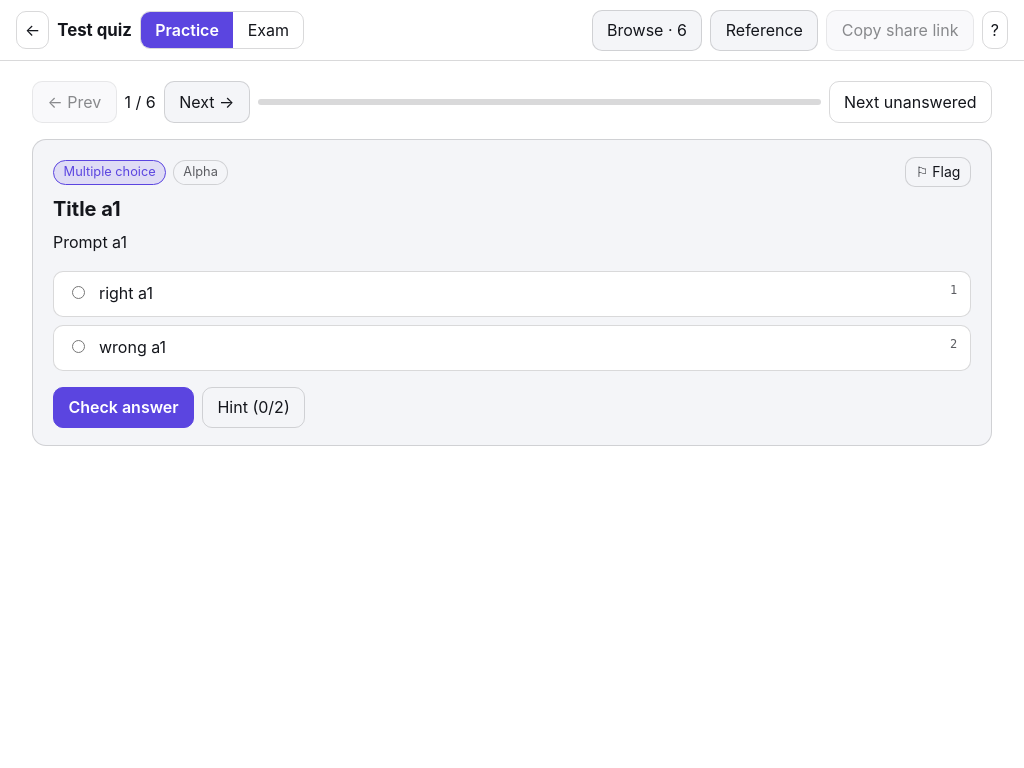
Test case: chrome › hides the Reference button when the quiz has none and shows the drawer when it has one
Click the button "Reference": click(764, 30) [710,10,818,51]
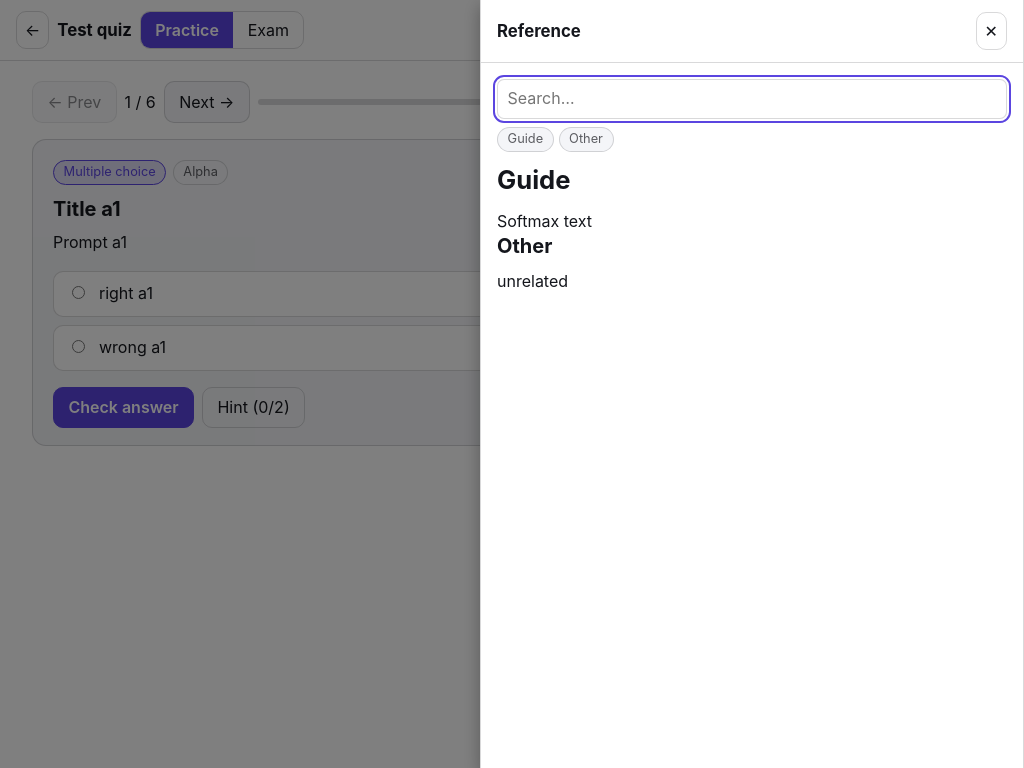
Expected: the text "Softmax text" is shown, [497,211,592,231]
In the search field named "Search the reference": (752, 99) [497,79,1007,119], type "unrelated"
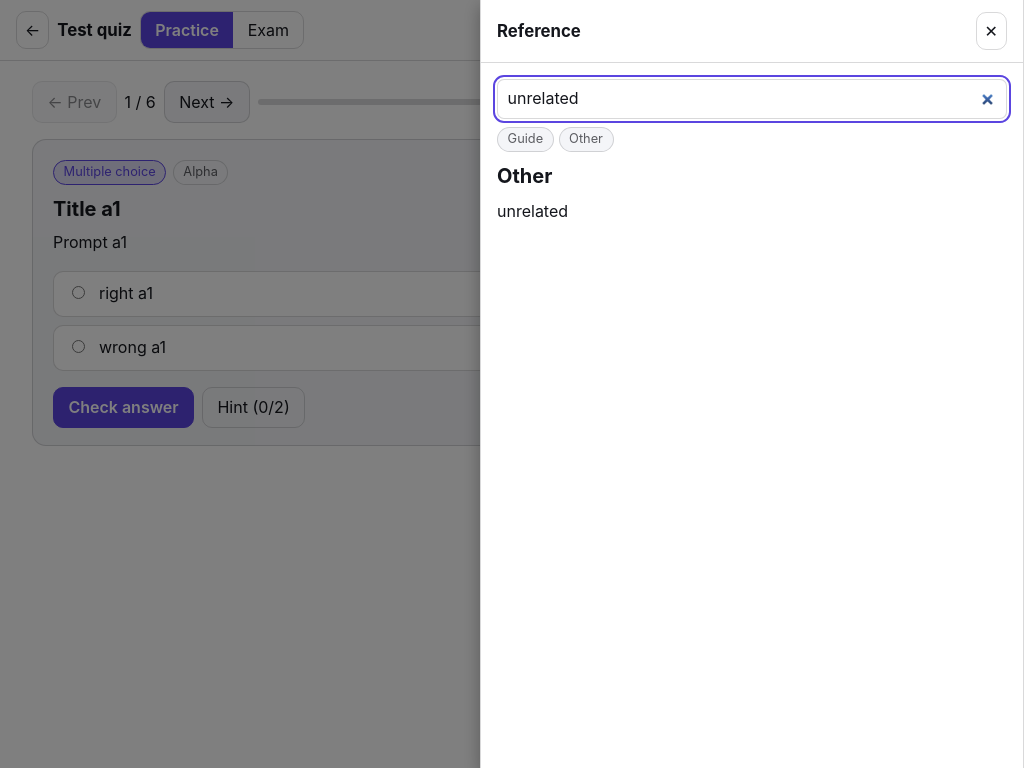
Expected: the text "unrelated" is shown, [497,201,568,221]
Expected: the text "Softmax text" is gone
